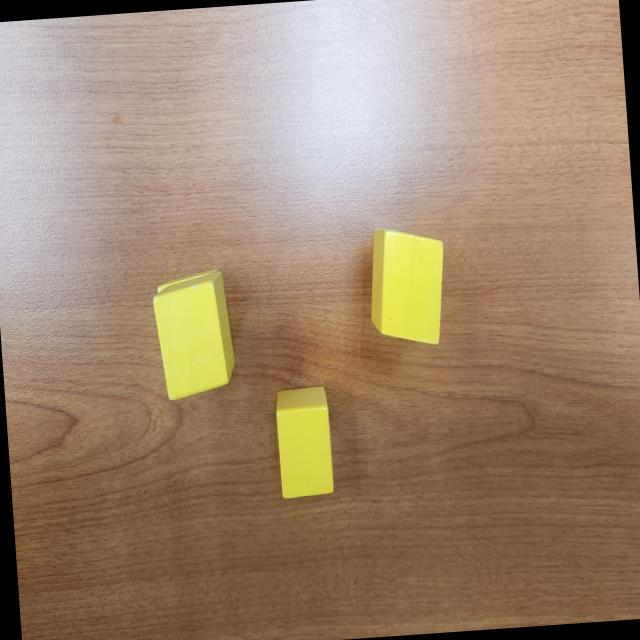yellow: (151, 270, 238, 402), (364, 222, 451, 348), (274, 386, 335, 498), (152, 267, 220, 294)
